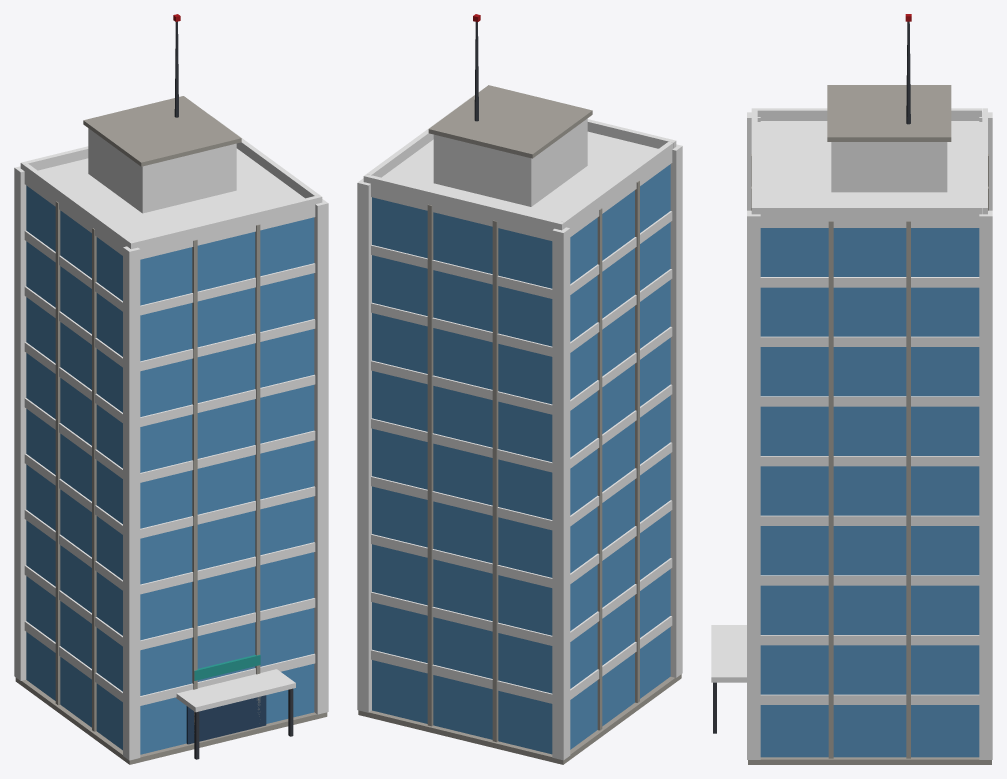
Rendered from Office_Tower.glb.
The picture shows the model from 3 angles, left to right: view 1: azimuth 30°, elevation 25°; view 2: azimuth 150°, elevation 25°; view 3: azimuth 270°, elevation 25°; orthographic projection. The views are drawn at different scales.
Parts seen in each view (by area): view 1: Office_Tower_Mesh; view 2: Office_Tower_Mesh; view 3: Office_Tower_Mesh.
Part boxes in pixels (x1,y1,x2,y2): Office_Tower_Mesh: [14, 14, 328, 764]; Office_Tower_Mesh: [357, 14, 682, 764]; Office_Tower_Mesh: [711, 14, 992, 764].
Size of the model in its own units: 12.7 by 40.5 by 14.55.
Materials: 1 (1 with a texture image).
